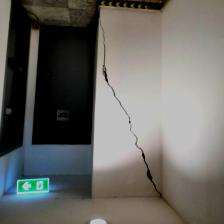Medium: (101, 53, 162, 186)
